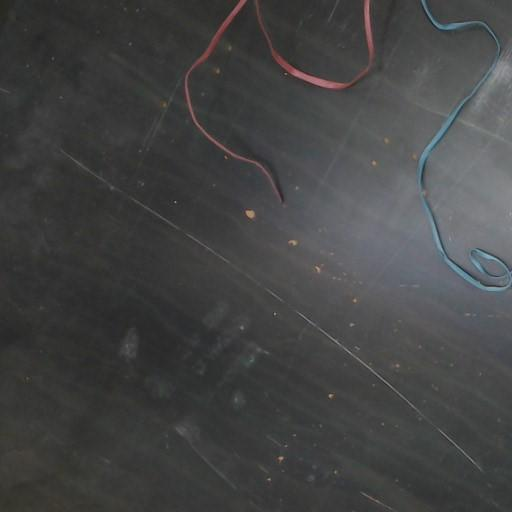conveyor belt: (0, 0, 511, 511), (427, 0, 511, 253), (261, 0, 366, 79)
thread: (417, 0, 511, 291), (185, 0, 282, 202), (253, 0, 373, 89)
